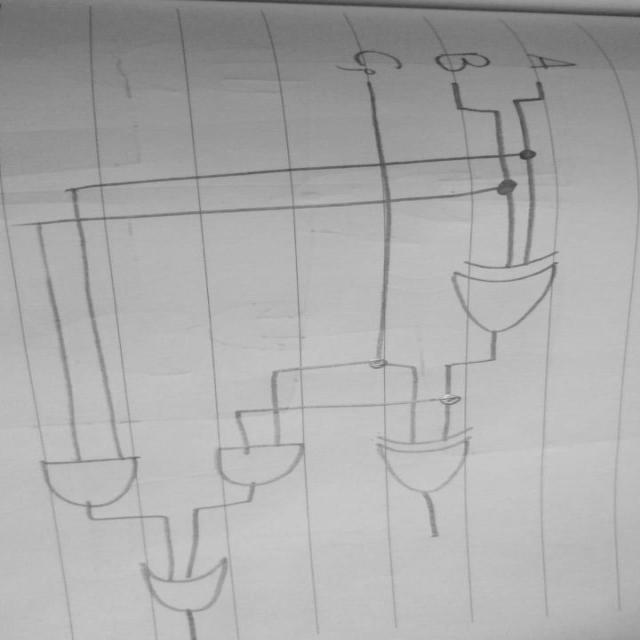AND: (22, 452, 166, 512), (198, 440, 330, 495)
OR: (129, 550, 250, 621)
XOR: (436, 252, 568, 340), (369, 426, 497, 501)
